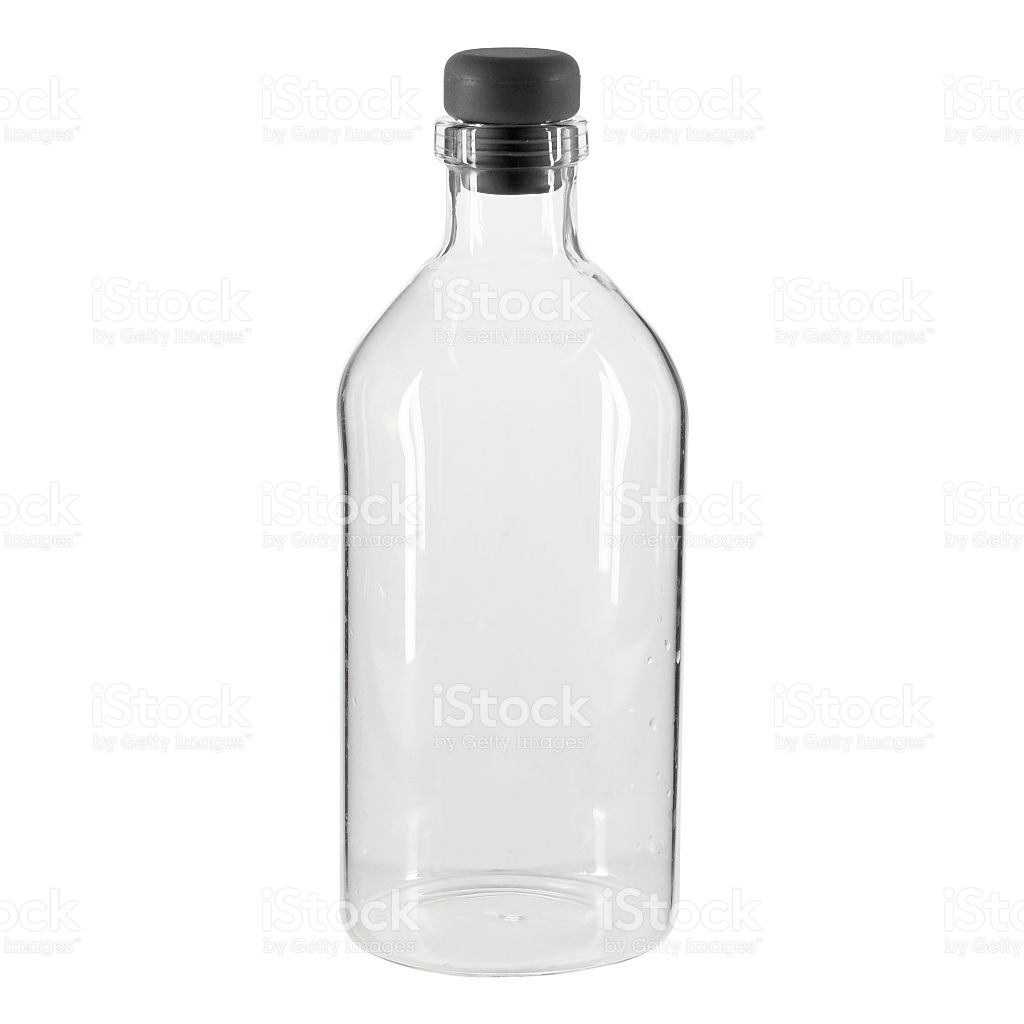emptybottle: (340, 48, 683, 977)
